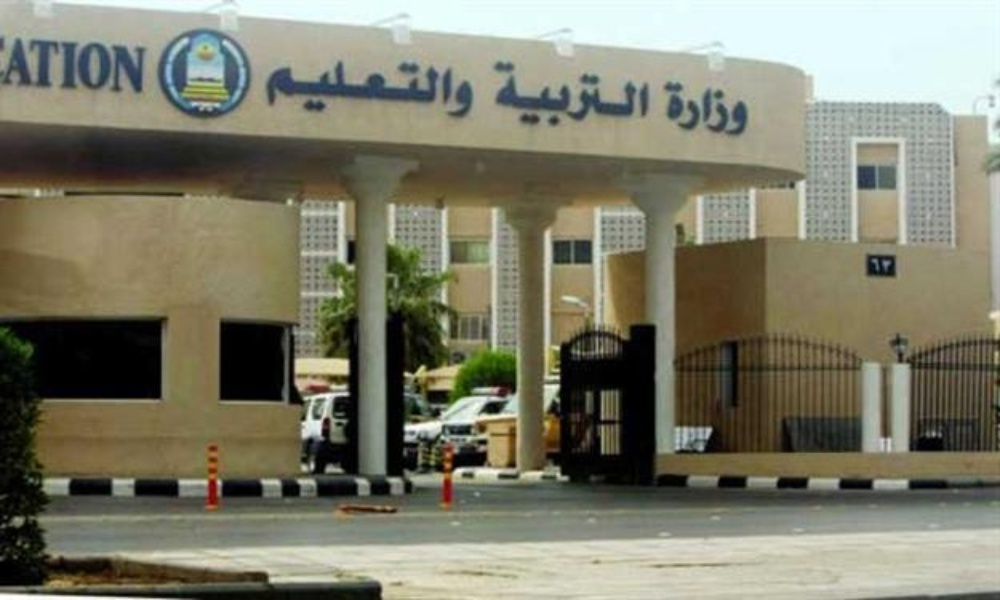text: (497, 57, 512, 130), (513, 57, 528, 130), (529, 57, 544, 130), (545, 57, 560, 130), (561, 57, 576, 130), (577, 57, 592, 130), (593, 57, 608, 130), (609, 57, 624, 130), (625, 57, 640, 130), (17, 36, 32, 98), (33, 36, 48, 98), (49, 36, 64, 98), (65, 36, 80, 98), (81, 36, 96, 98), (97, 36, 112, 98), (113, 36, 128, 98), (129, 36, 144, 98), (673, 79, 688, 138), (689, 79, 704, 138), (705, 79, 720, 138), (721, 79, 736, 138), (273, 58, 288, 117), (289, 58, 304, 117), (305, 58, 320, 117), (321, 58, 336, 117), (337, 58, 352, 117), (353, 58, 368, 117), (369, 58, 384, 117), (385, 58, 400, 117), (401, 58, 416, 117), (417, 58, 432, 117), (433, 58, 448, 117), (737, 79, 749, 138), (5, 36, 16, 98), (641, 57, 650, 130), (449, 79, 464, 122), (663, 79, 672, 138), (449, 58, 458, 117), (465, 79, 476, 122), (866, 253, 880, 276), (881, 253, 895, 276), (492, 57, 496, 130), (145, 36, 148, 98), (445, 79, 448, 122), (271, 58, 272, 117)
